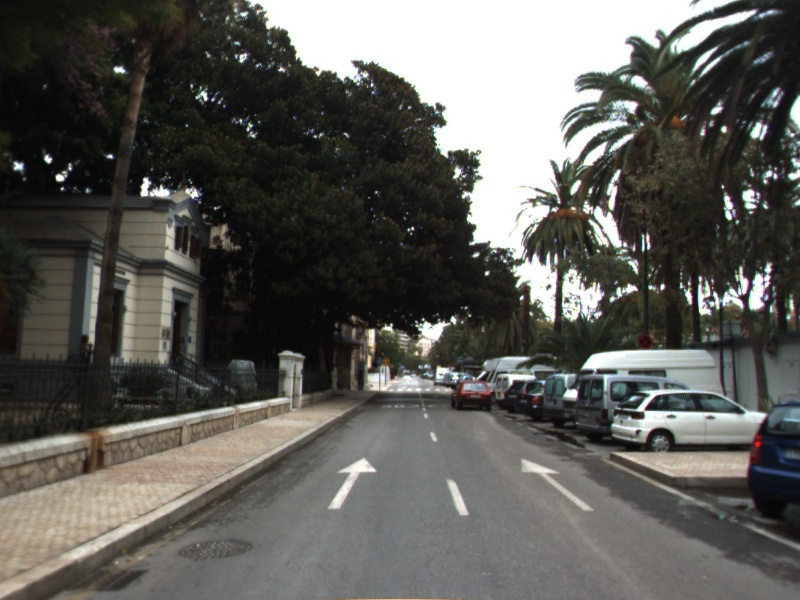STRAIGHT: (519, 456, 596, 512), (326, 455, 379, 511)
